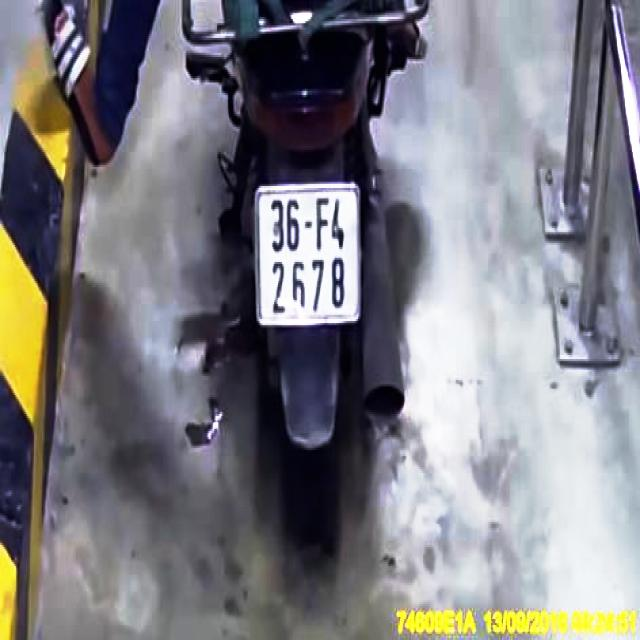license_plate: (257, 185, 364, 324)
